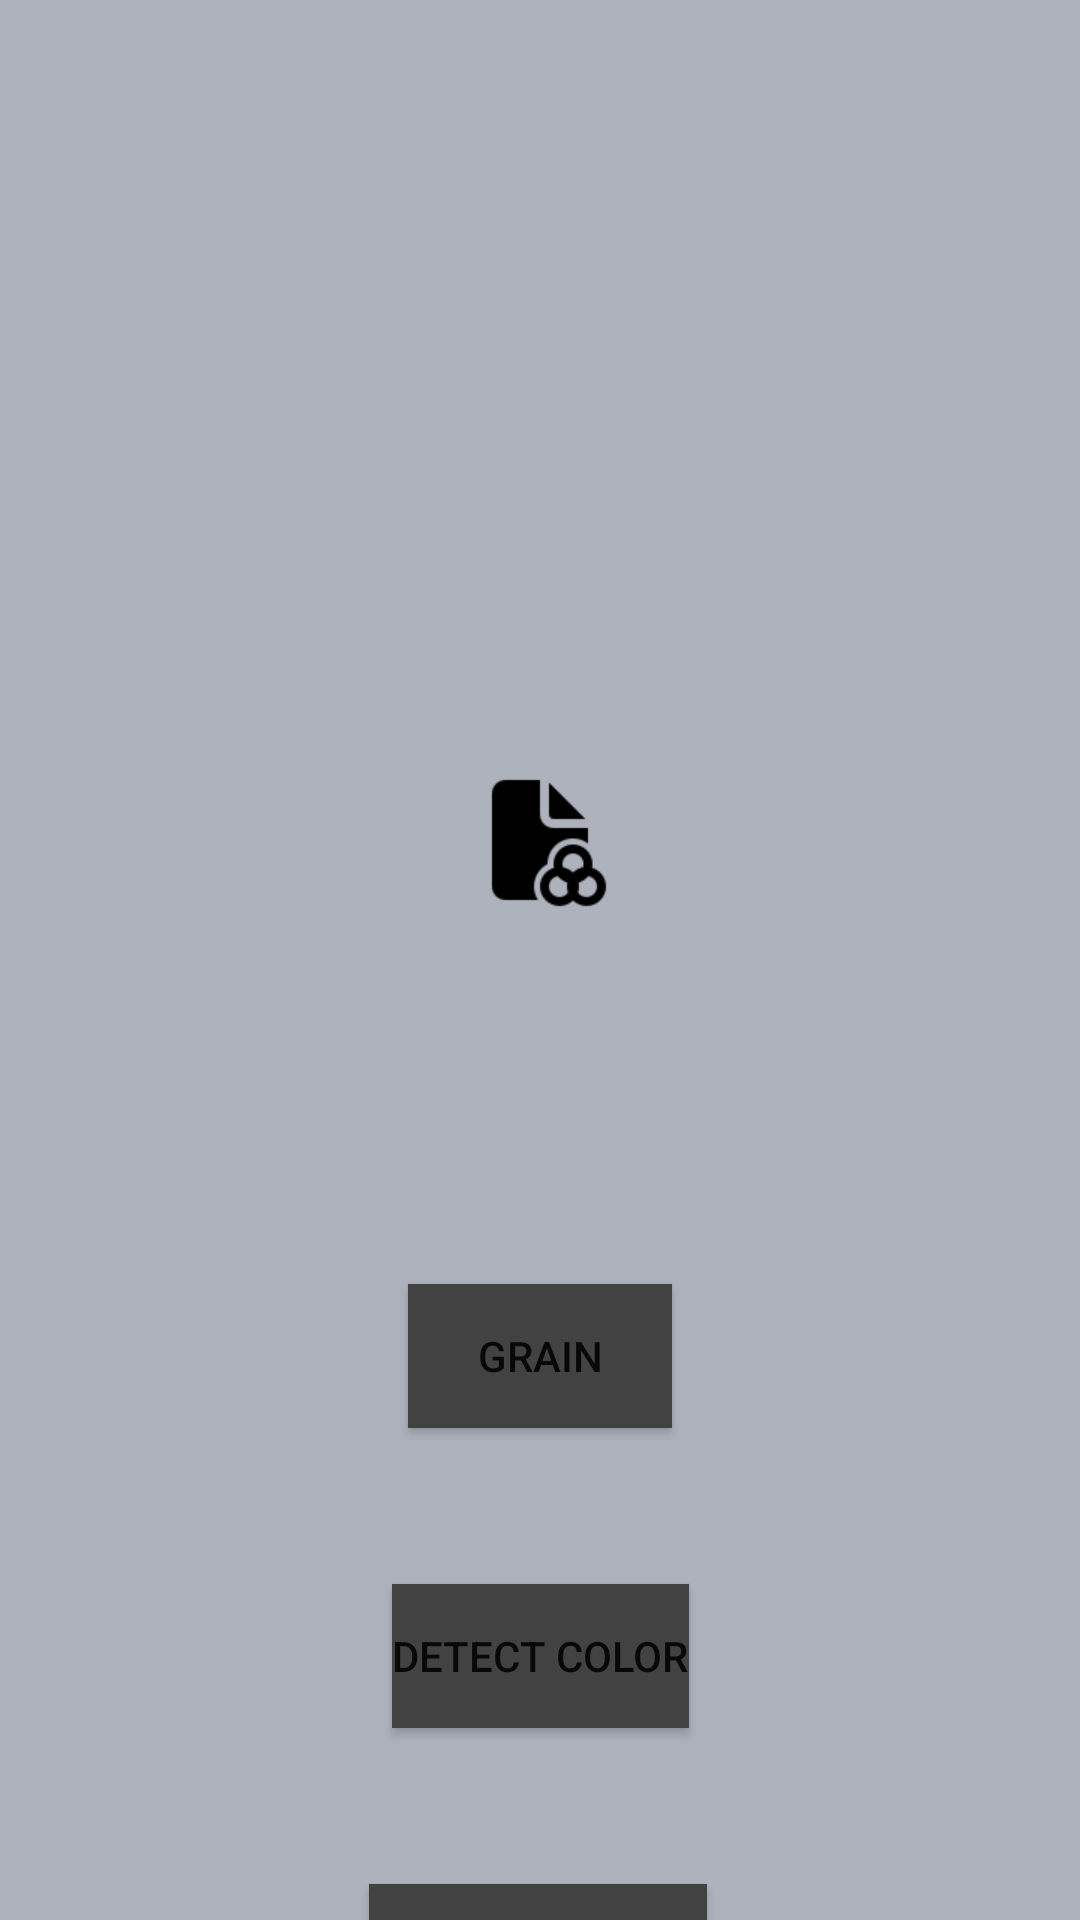

Icons on this 1080*1920 Android screen, each with the point to tap as [x,y]:
col det: [549,843]
